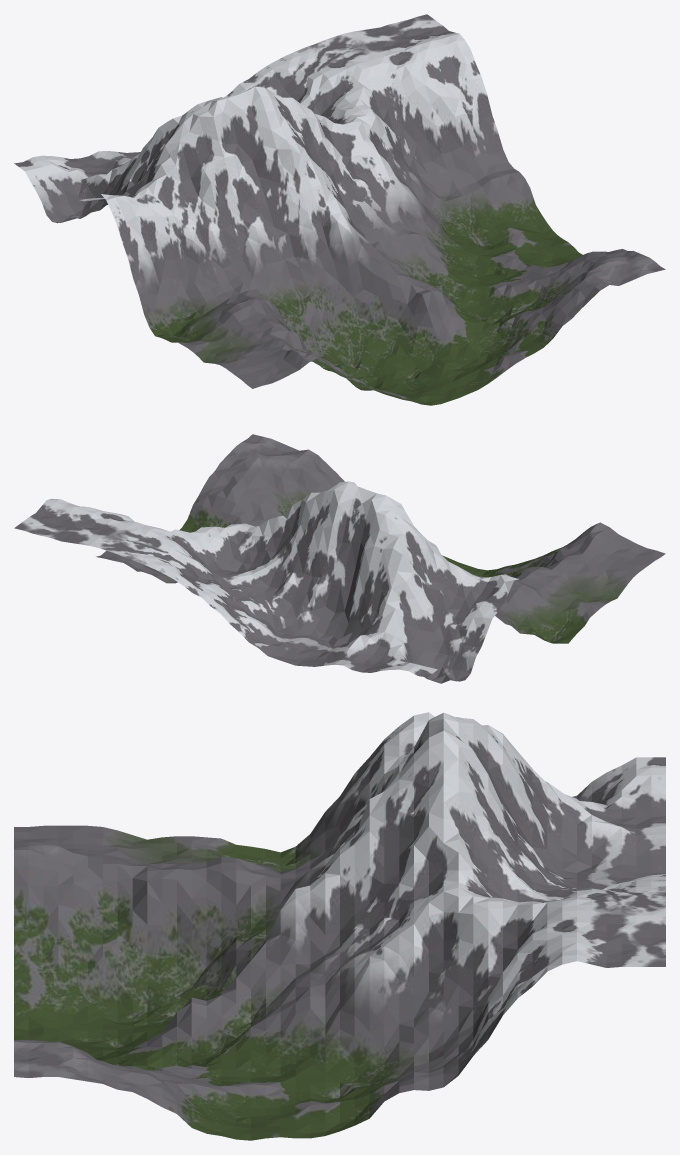
File: SM_mountain.glb
The picture shows the model from 3 angles, top to bottom: view 1: azimuth 30°, elevation 25°; view 2: azimuth 150°, elevation 25°; view 3: azimuth 270°, elevation 25°; orthographic projection. The views are drawn at different scales.
Parts seen in each view (by area): view 1: SM_mountain; view 2: SM_mountain; view 3: SM_mountain.
Part boxes in pixels (x1,y1,x2,y2): SM_mountain: (14, 14, 665, 405); SM_mountain: (14, 434, 665, 683); SM_mountain: (14, 712, 665, 1140).
Bounding box in the file's own units: 1000 × 496 × 1000.
1 material, 1 textured.
